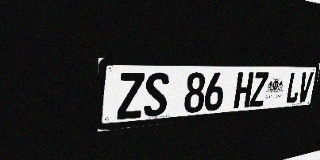6: (204, 72, 226, 111)
8: (183, 72, 207, 113)
H: (233, 72, 254, 109)
L: (285, 72, 302, 104)
S: (143, 72, 170, 117)
V: (297, 72, 314, 102)
Z: (117, 73, 145, 120), (249, 72, 269, 107)
